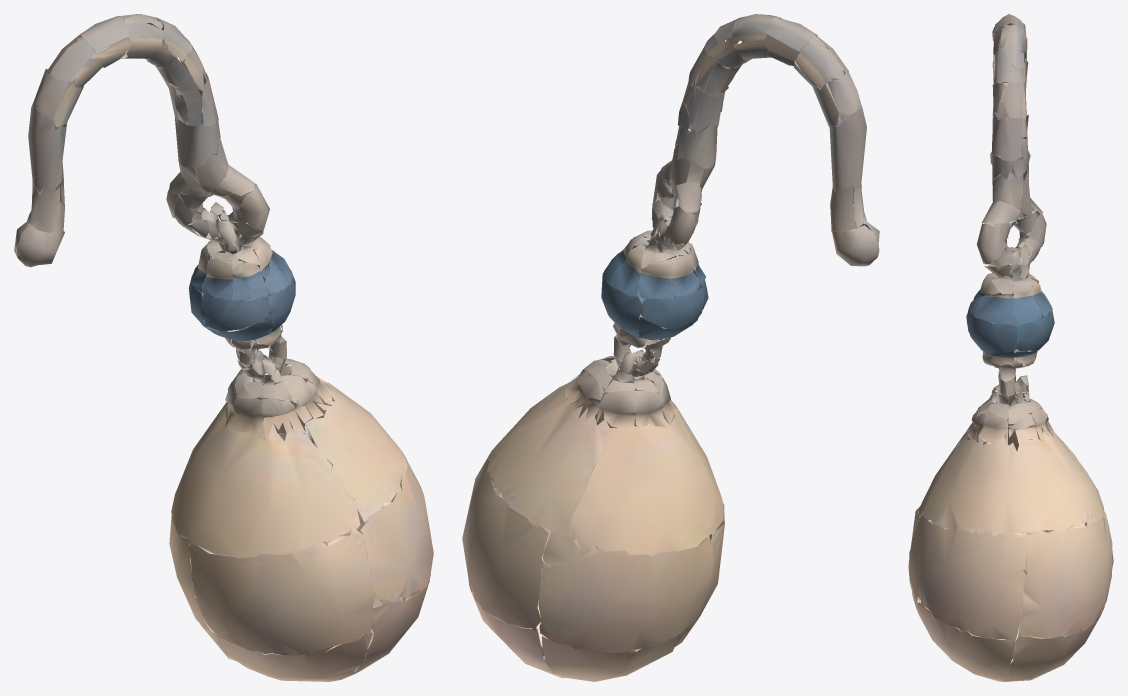
Rendered from earring.glb.
3 views of the same model, side by side, from view 1: azimuth 30°, elevation 25°; view 2: azimuth 150°, elevation 25°; view 3: azimuth 270°, elevation 25° (orthographic). The views are drawn at different scales.
Parts seen in each view (by area): view 1: earring; view 2: earring; view 3: earring.
Part boxes in pixels (bbox=[...]): earring: bbox=[14, 14, 433, 681]; earring: bbox=[462, 14, 879, 681]; earring: bbox=[908, 14, 1113, 681].
Bounding box in the file's own units: 0.0151 × 0.0252 × 0.00816.
1 material, 1 textured.
